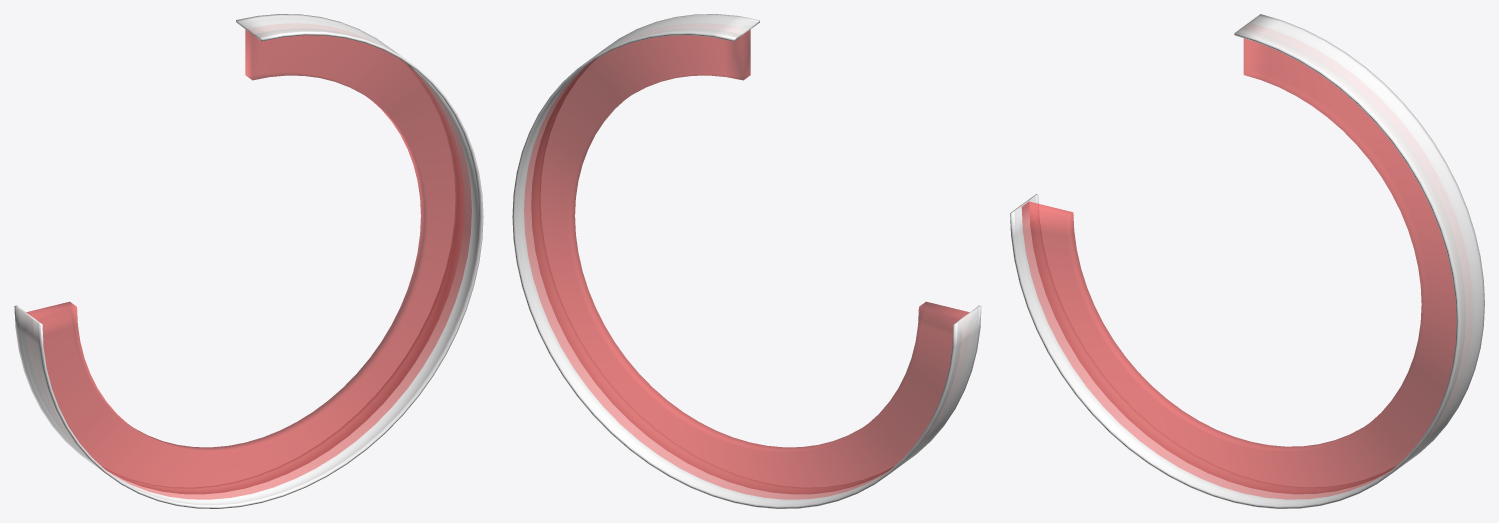
Rendered from FlickNote12.fbx.
3 views of the same model, side by side, from view 1: azimuth 30°, elevation 25°; view 2: azimuth 150°, elevation 25°; view 3: azimuth 330°, elevation 25° (orthographic).
Visible parts, largest first — view 1: FlickNote12; view 2: FlickNote12; view 3: FlickNote12.
Part boxes in pixels (bbox=[...]): FlickNote12: bbox=[14, 14, 483, 508]; FlickNote12: bbox=[512, 14, 981, 508]; FlickNote12: bbox=[1010, 14, 1484, 508].
Size of the model in its own units: 198 by 20 by 198.
